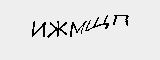Ж: (45, 19, 67, 38)
И: (28, 19, 47, 37)
М: (67, 20, 86, 39)
П: (111, 14, 132, 27)
Щ: (83, 14, 109, 32)
